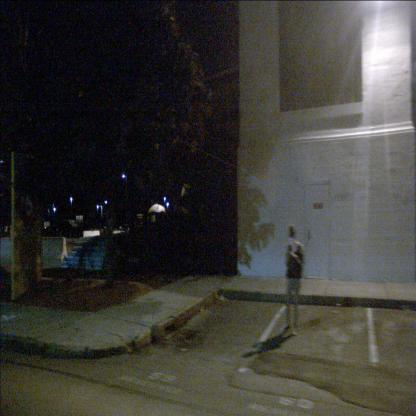human-pedestrian-adult: (284, 226, 304, 335)
